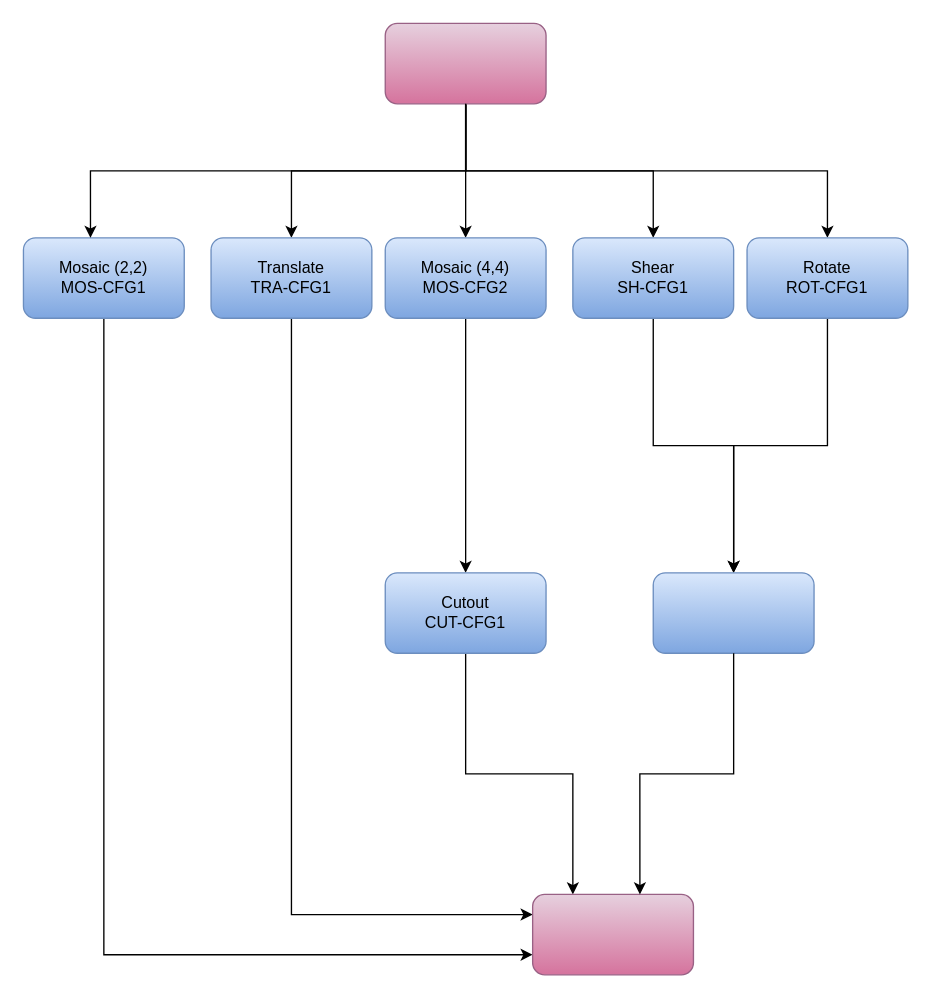
Some shapes in this 931 by 998 pixel diagram are drawn without their labels. Each missing label, with the centre of its shape:
"Mosaic (2,2) MOS-CFG3" belongs at point 733,612.
"Output Dataset" belongs at point 612,934.
"Source Dataset" belongs at point 465,63.
